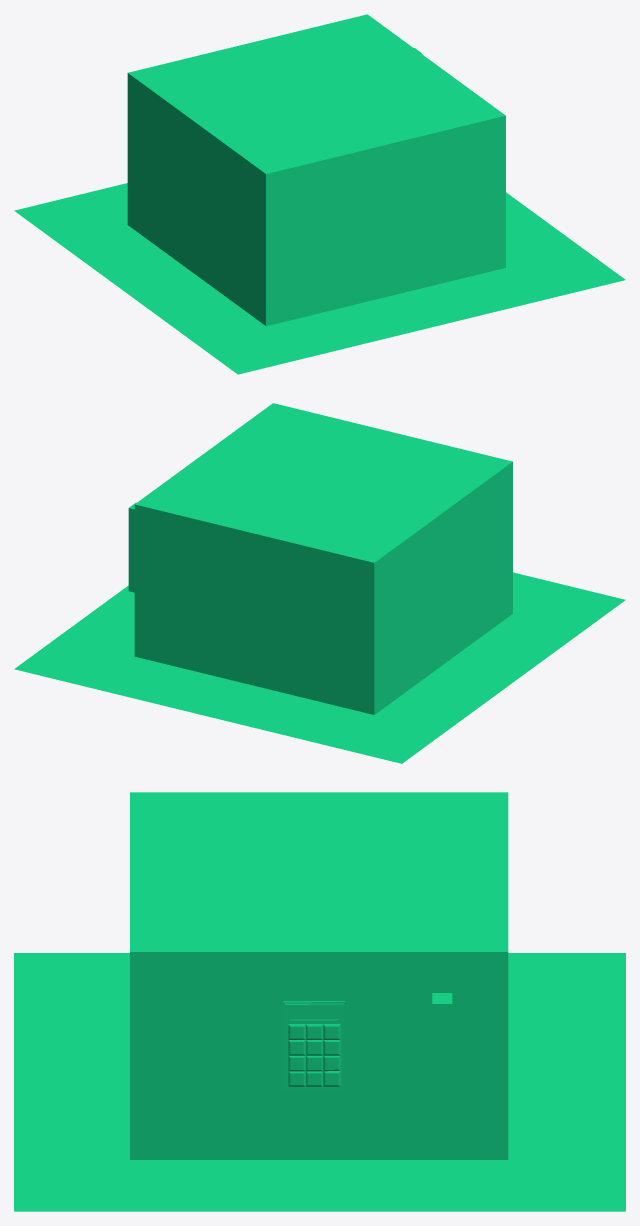
File: Safe Diorama.fbx
3 views of the same model, one above another, from view 1: azimuth 30°, elevation 25°; view 2: azimuth 150°, elevation 25°; view 3: azimuth 270°, elevation 25° (orthographic). The views are drawn at different scales.
Parts seen in each view (by area): view 1: Safe, Plane; view 2: Safe, Plane, Door; view 3: Safe, Plane, Door.
Part boxes in pixels (<box>): Safe: <box>127,14,505,326</box>; Plane: <box>14,183,625,374</box>; Safe: <box>134,403,512,714</box>; Plane: <box>14,572,625,763</box>; Door: <box>128,502,136,592</box>; Safe: <box>130,792,508,1159</box>; Plane: <box>14,953,625,1211</box>; Door: <box>168,993,474,1117</box>.
Size of the model in its own units: 800 by 300 by 800.
